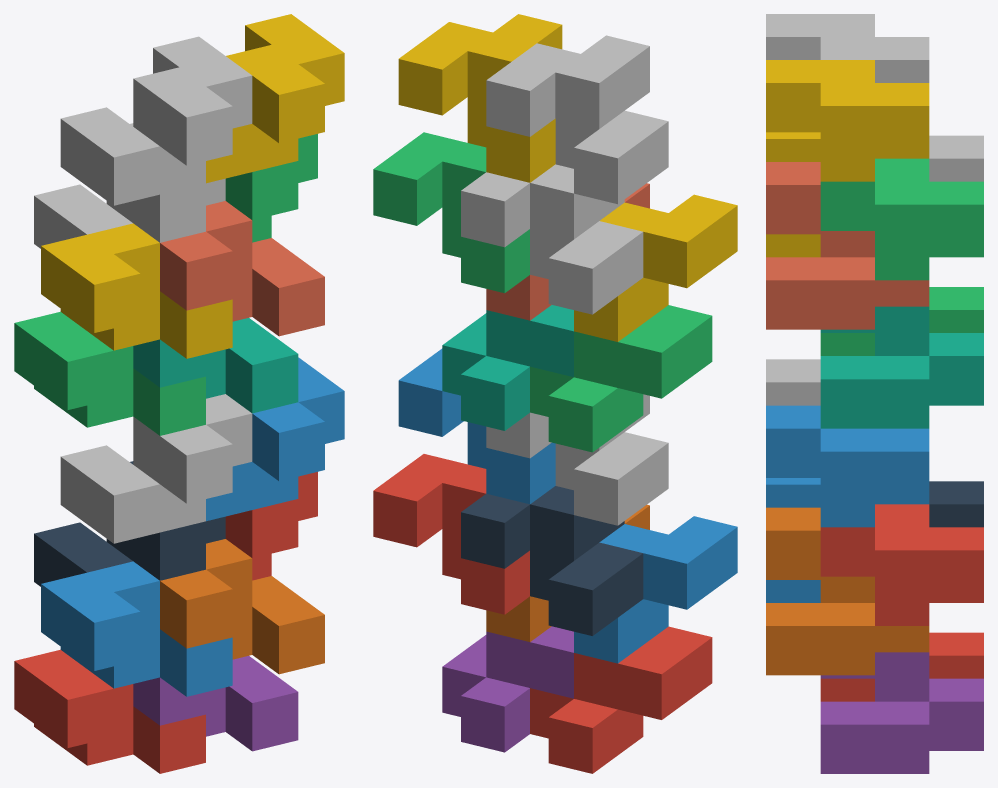
The model's file is tiling.obj.
The picture shows the model from 3 angles, left to right: view 1: azimuth 30°, elevation 25°; view 2: azimuth 150°, elevation 25°; view 3: azimuth 270°, elevation 25°; orthographic projection. The views are drawn at different scales.
Parts seen in each view (by area): view 1: copy_2_domain_4, copy_2_domain_2, copy_1_domain_2, copy_1_domain_4, copy_1_domain_8, copy_1_domain_6, copy_1_domain_1, copy_1_domain_3, copy_2_domain_8, copy_2_domain_6, copy_1_domain_7, copy_1_domain_5 (+4 smaller); view 2: copy_2_domain_4, copy_2_domain_3, copy_2_domain_1, copy_1_domain_1, copy_1_domain_3, copy_2_domain_8, copy_2_domain_5, copy_2_domain_7, copy_1_domain_5, copy_1_domain_7, copy_1_domain_2, copy_1_domain_4 (+4 smaller); view 3: copy_1_domain_7, copy_1_domain_6, copy_1_domain_5, copy_1_domain_8, copy_2_domain_8, copy_2_domain_6, copy_2_domain_7, copy_2_domain_5, copy_2_domain_4, copy_1_domain_1, copy_1_domain_3, copy_1_domain_4 (+4 smaller).
Part boxes in pixels (x1,y1,x2,y2): copy_2_domain_4: (60,36,252,205); copy_2_domain_2: (60,394,252,543); copy_1_domain_2: (41,561,232,696); copy_1_domain_4: (41,223,232,358); copy_1_domain_8: (160,201,324,336); copy_1_domain_6: (160,539,324,674); copy_1_domain_1: (14,649,205,773); copy_1_domain_3: (14,311,205,435); copy_2_domain_8: (206,14,344,183); copy_2_domain_6: (206,357,344,521); copy_1_domain_7: (133,318,298,413); copy_1_domain_5: (133,656,298,751); copy_2_domain_4: (486,35,668,204); copy_2_domain_3: (461,164,643,314); copy_2_domain_1: (461,486,643,635); copy_1_domain_1: (530,626,712,773); copy_1_domain_3: (530,305,712,452); copy_2_domain_8: (398,14,562,182); copy_2_domain_5: (373,454,529,614); copy_2_domain_7: (373,132,529,293); copy_1_domain_5: (442,626,573,752); copy_1_domain_7: (442,305,573,430); copy_1_domain_2: (574,516,737,663); copy_1_domain_4: (574,194,737,341); copy_1_domain_7: (820,306,983,428); copy_1_domain_6: (766,507,929,675); copy_1_domain_5: (820,652,983,773); copy_1_domain_8: (766,162,929,329); copy_2_domain_8: (766,60,929,181); copy_2_domain_6: (766,405,929,527); copy_2_domain_7: (820,158,983,280); copy_2_domain_5: (820,504,983,625); copy_2_domain_4: (766,14,929,82); copy_1_domain_1: (820,632,983,701); copy_1_domain_3: (820,287,983,355); copy_1_domain_4: (766,132,820,257).
Bounding box in the file's own units: 6 × 14 × 4.
